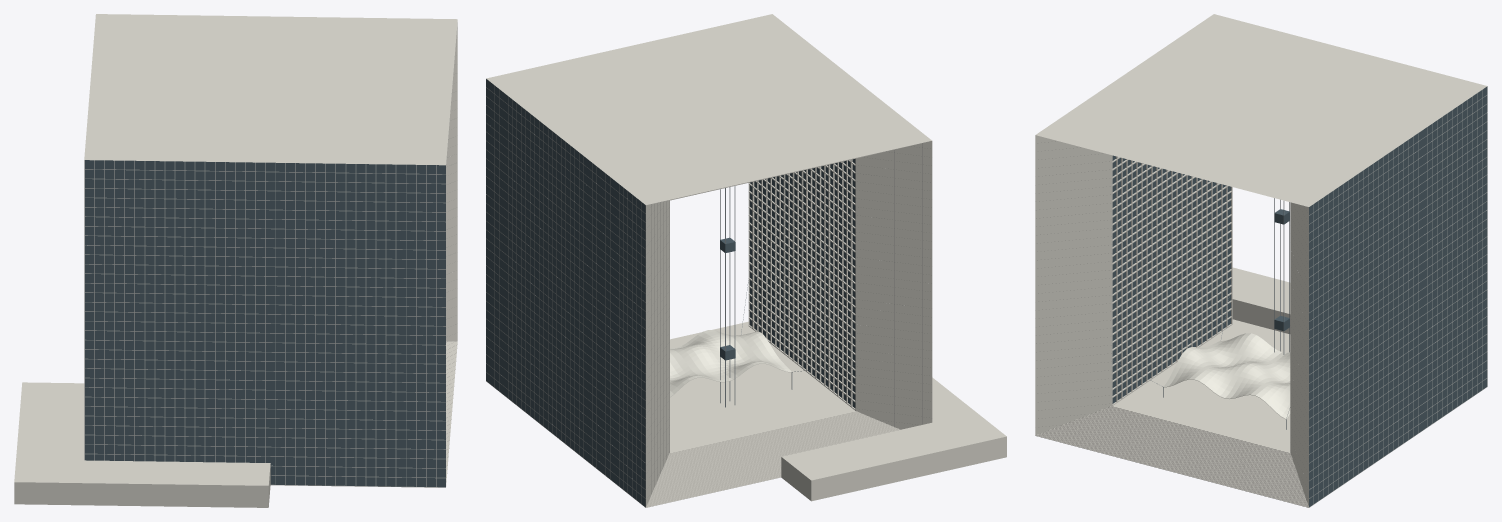
Rendered from grande-arche-near.glb.
3 renders of one model, left to right at view 1: azimuth 30°, elevation 25°; view 2: azimuth 150°, elevation 25°; view 3: azimuth 270°, elevation 25°, orthographic. The views are drawn at different scales.
Parts seen in each view (by area): view 1: grande-arche-0-glass, grande-arche-0-stone, grande-arche-0-frame; view 2: grande-arche-0-stone, grande-arche-0-glass, grande-arche-0-frame, grande-arche-0-cloud, grande-arche-0-joint, grande-arche-0-steel; view 3: grande-arche-0-stone, grande-arche-0-glass, grande-arche-0-frame, grande-arche-0-cloud, grande-arche-0-steel, grande-arche-0-joint.
Boxes of the visible parts, <box> form: grande-arche-0-glass: <box>85,160,445,487</box>; grande-arche-0-stone: <box>14,14,457,507</box>; grande-arche-0-frame: <box>84,160,445,487</box>; grande-arche-0-stone: <box>486,14,1006,507</box>; grande-arche-0-glass: <box>486,79,855,506</box>; grande-arche-0-frame: <box>486,86,645,507</box>; grande-arche-0-cloud: <box>670,330,791,397</box>; grande-arche-0-joint: <box>651,143,931,493</box>; grande-arche-0-steel: <box>720,186,855,407</box>; grande-arche-0-stone: <box>1035,14,1487,507</box>; grande-arche-0-glass: <box>1112,86,1487,507</box>; grande-arche-0-frame: <box>1309,86,1487,507</box>; grande-arche-0-cloud: <box>1163,333,1290,419</box>; grande-arche-0-steel: <box>1113,198,1290,429</box>; grande-arche-0-joint: <box>1035,141,1307,427</box>.
Bounding box in the file's own units: 178 × 110 × 150.
